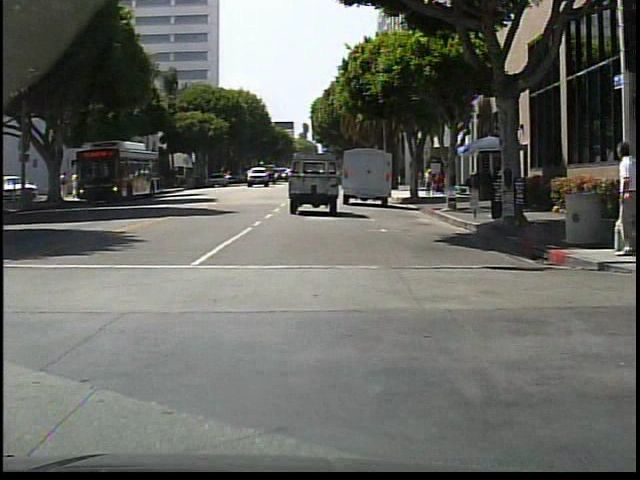person: (603, 141, 639, 256), (60, 170, 70, 199), (424, 171, 434, 198), (417, 168, 425, 199), (72, 170, 80, 200)
